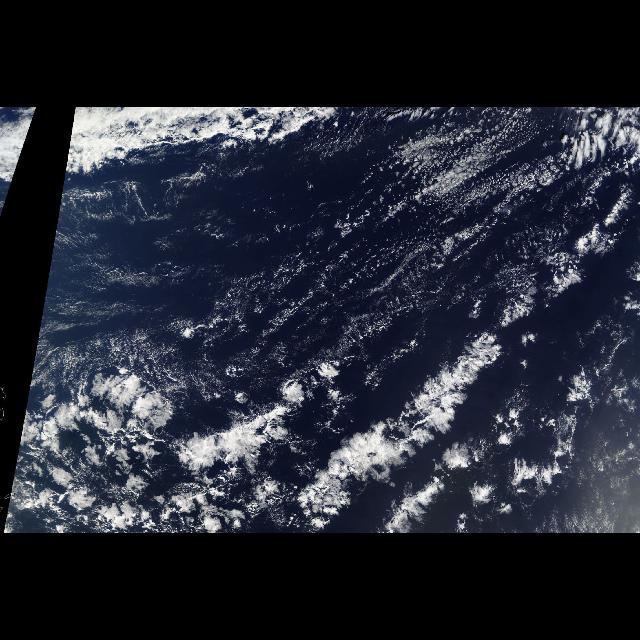Fish: (171, 184, 625, 496)
Flower: (3, 339, 599, 531)
Gravel: (291, 136, 639, 332)
Sugar: (38, 168, 470, 332)
